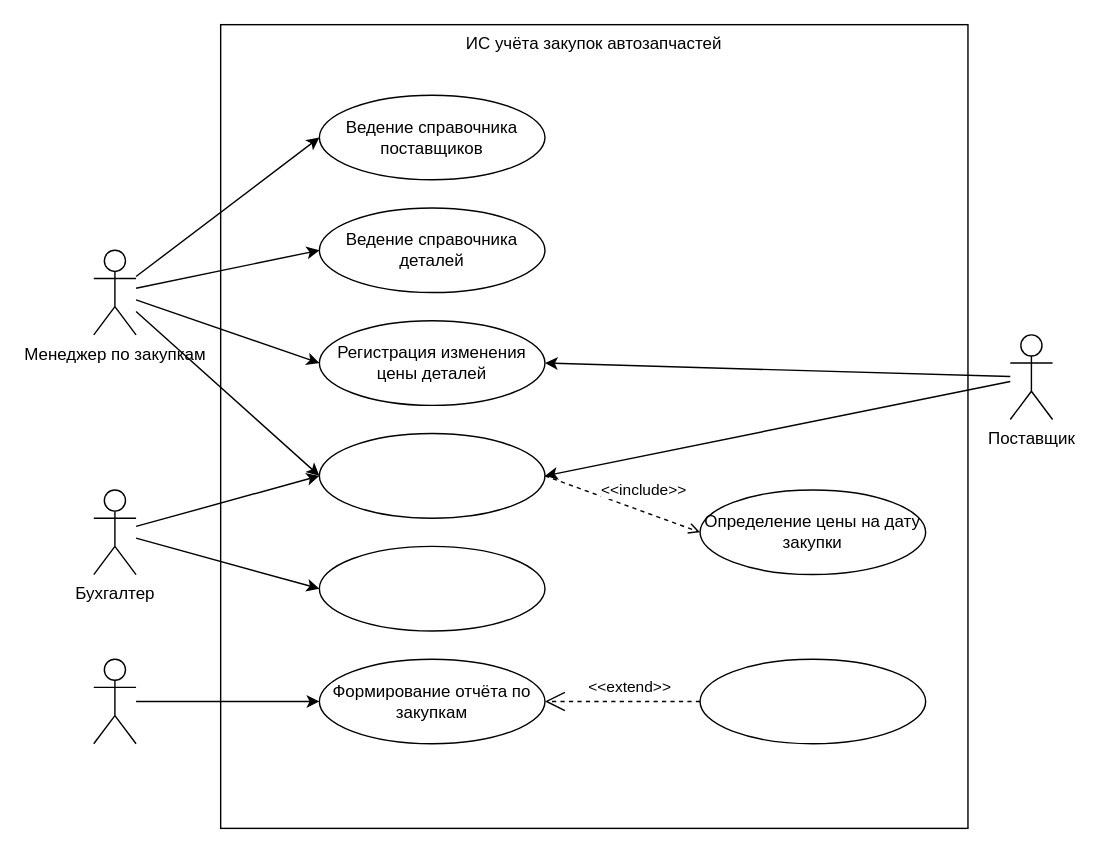
Some shapes in this 1100 by 853 pixel diagram are drawn without their labels. The shapes that lost their labels are listed below. From the top down, each one's centre as x and y in pixels, then its label:
At point (431, 475): "Регистрация закупки у поставщика".
At point (431, 588): "Просмотр истории цен".
At point (114, 701): "Директор".
At point (812, 701): "Экспорт отчёта в файл".
